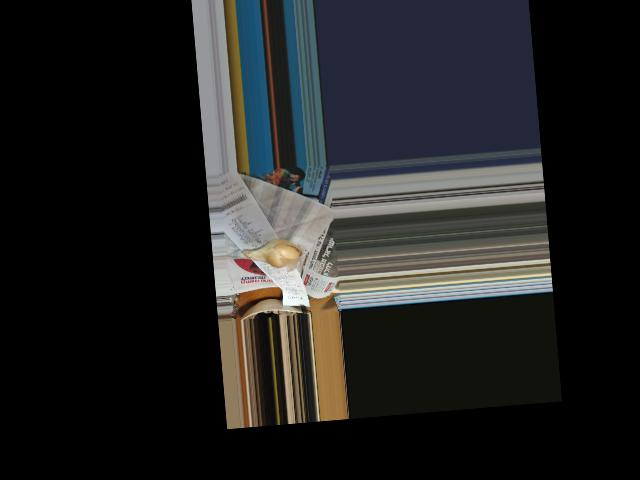onion: (245, 231, 301, 272)
